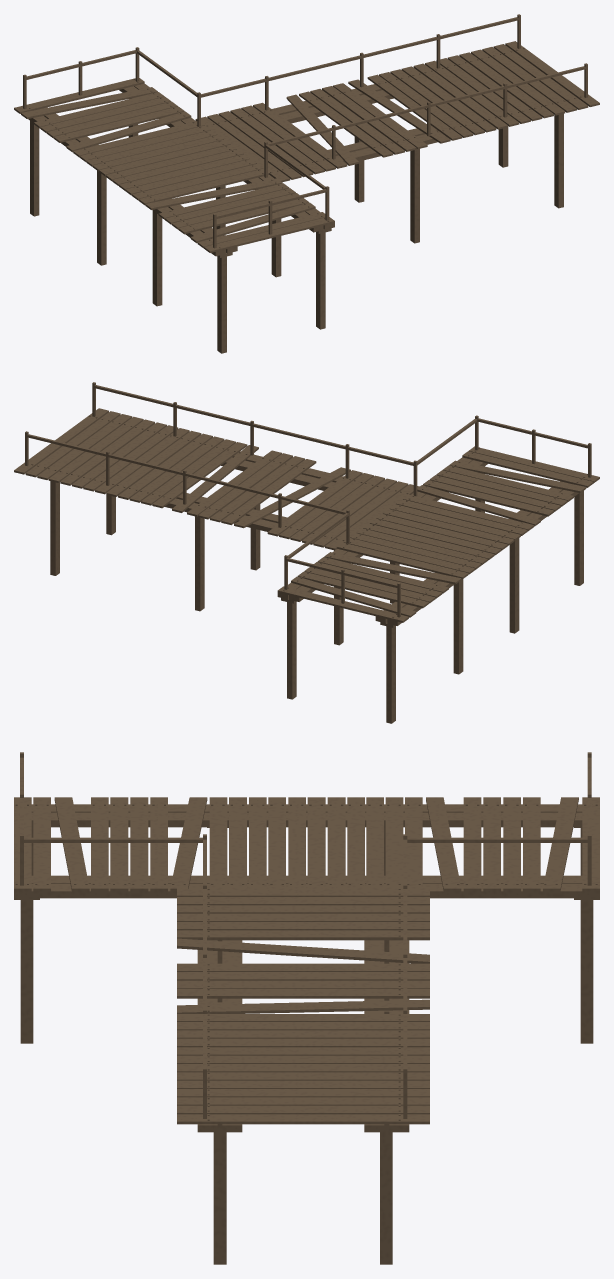
Rendered from Pruchal.fbx.
3 views of the same model, one above another, from view 1: azimuth 30°, elevation 25°; view 2: azimuth 150°, elevation 25°; view 3: azimuth 270°, elevation 25° (orthographic). The views are drawn at different scales.
Parts seen in each view (by area): view 1: Cube.060; view 2: Cube.060; view 3: Cube.060.
Part boxes in pixels (left/top/right/bottom): Cube.060: left=14, top=14, right=599, bottom=353; Cube.060: left=14, top=382, right=599, bottom=723; Cube.060: left=14, top=752, right=599, bottom=1264.
Size of the model in its own units: 2470 by 744 by 1881.
